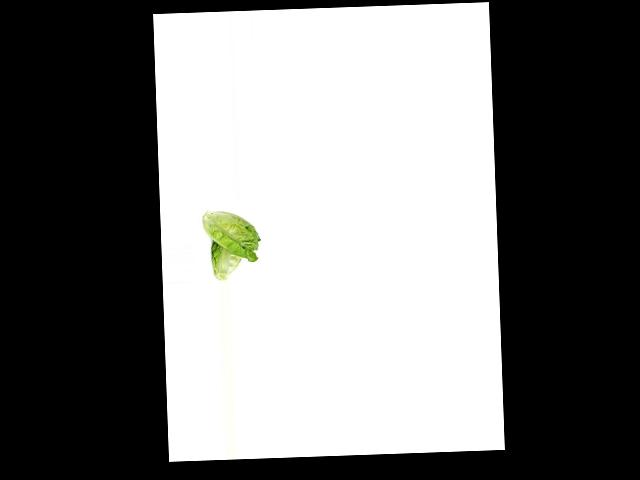lettuce: (207, 240, 244, 282)
